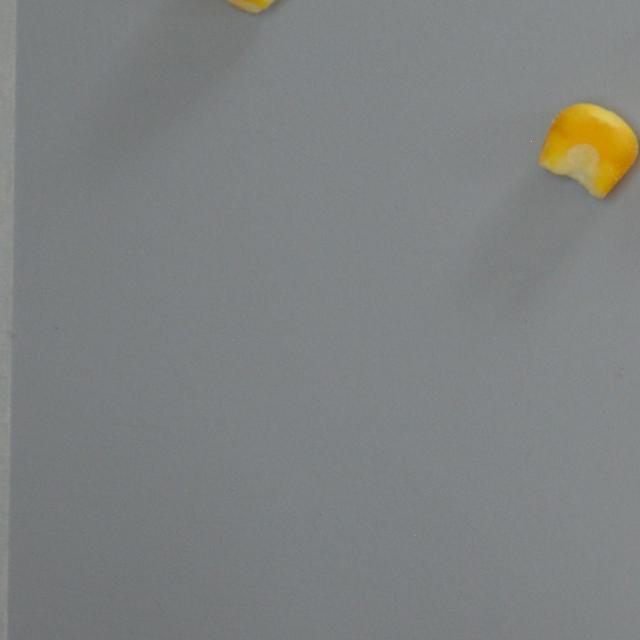no_canjicado: (536, 102, 638, 200)
pelicula: (194, 0, 296, 15)
